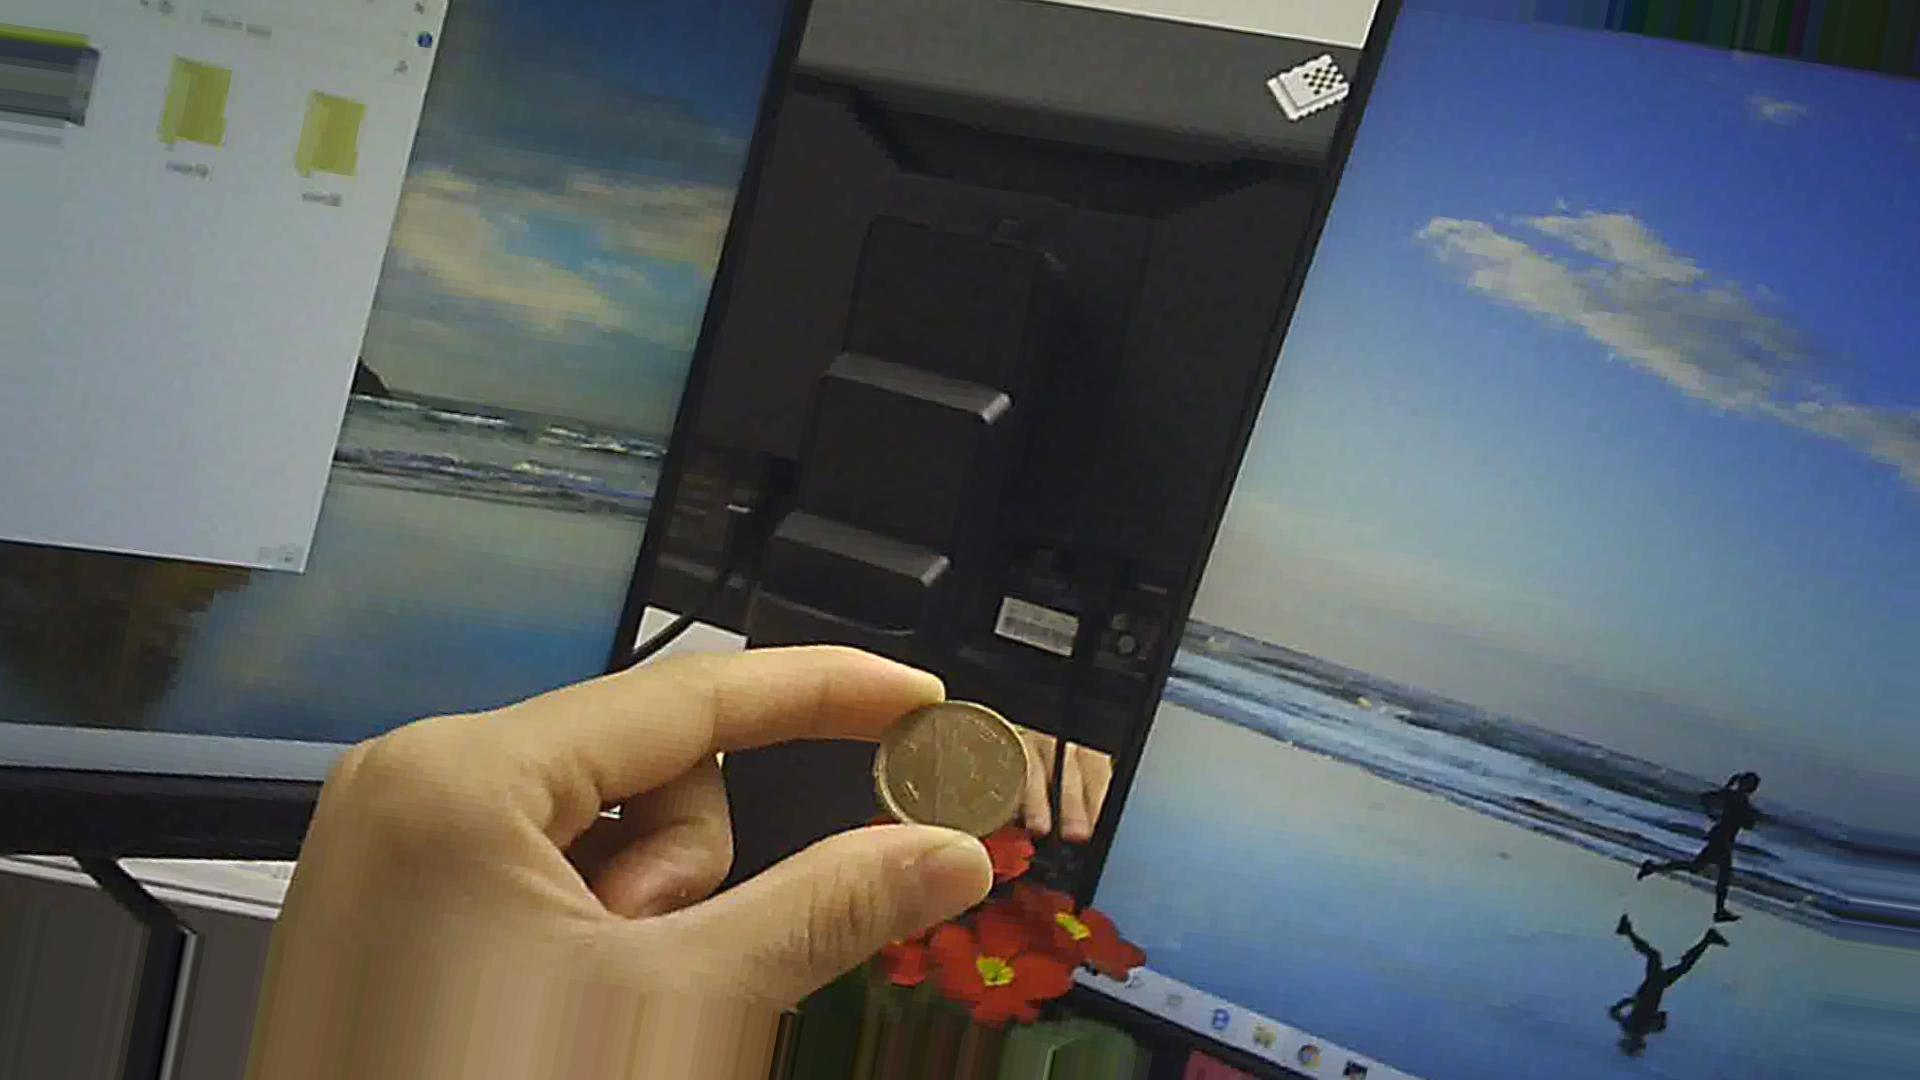10 Yen: (851, 709, 1033, 848)
